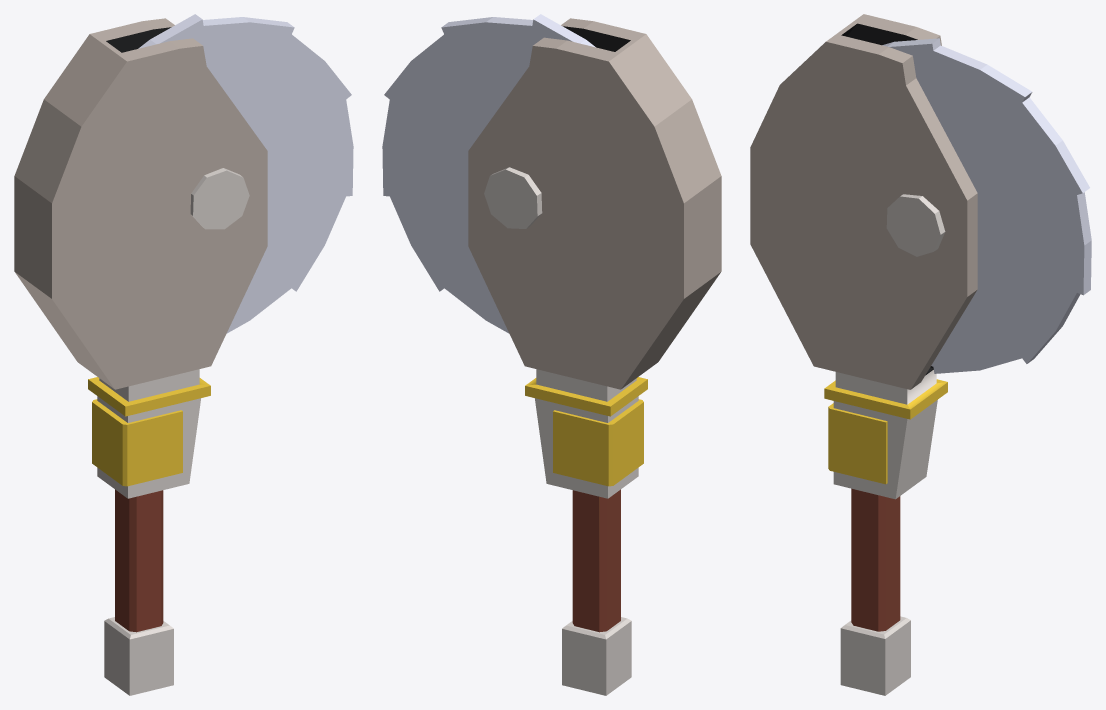
Rendered from Weapon_002_Lab_002_HandSaw.fbx.
3 renders of one model, left to right at view 1: azimuth 30°, elevation 25°; view 2: azimuth 150°, elevation 25°; view 3: azimuth 330°, elevation 25°, orthographic.
Visible parts, largest first — view 1: Weapon_002_Lab_002_HandSaw; view 2: Weapon_002_Lab_002_HandSaw; view 3: Weapon_002_Lab_002_HandSaw.
Part boxes in pixels (x1,y1,x2,y2): Weapon_002_Lab_002_HandSaw: (14,14,353,695); Weapon_002_Lab_002_HandSaw: (382,14,721,695); Weapon_002_Lab_002_HandSaw: (750,14,1091,695).
Bounding box in the file's own units: 65.04 × 128 × 16.43.
